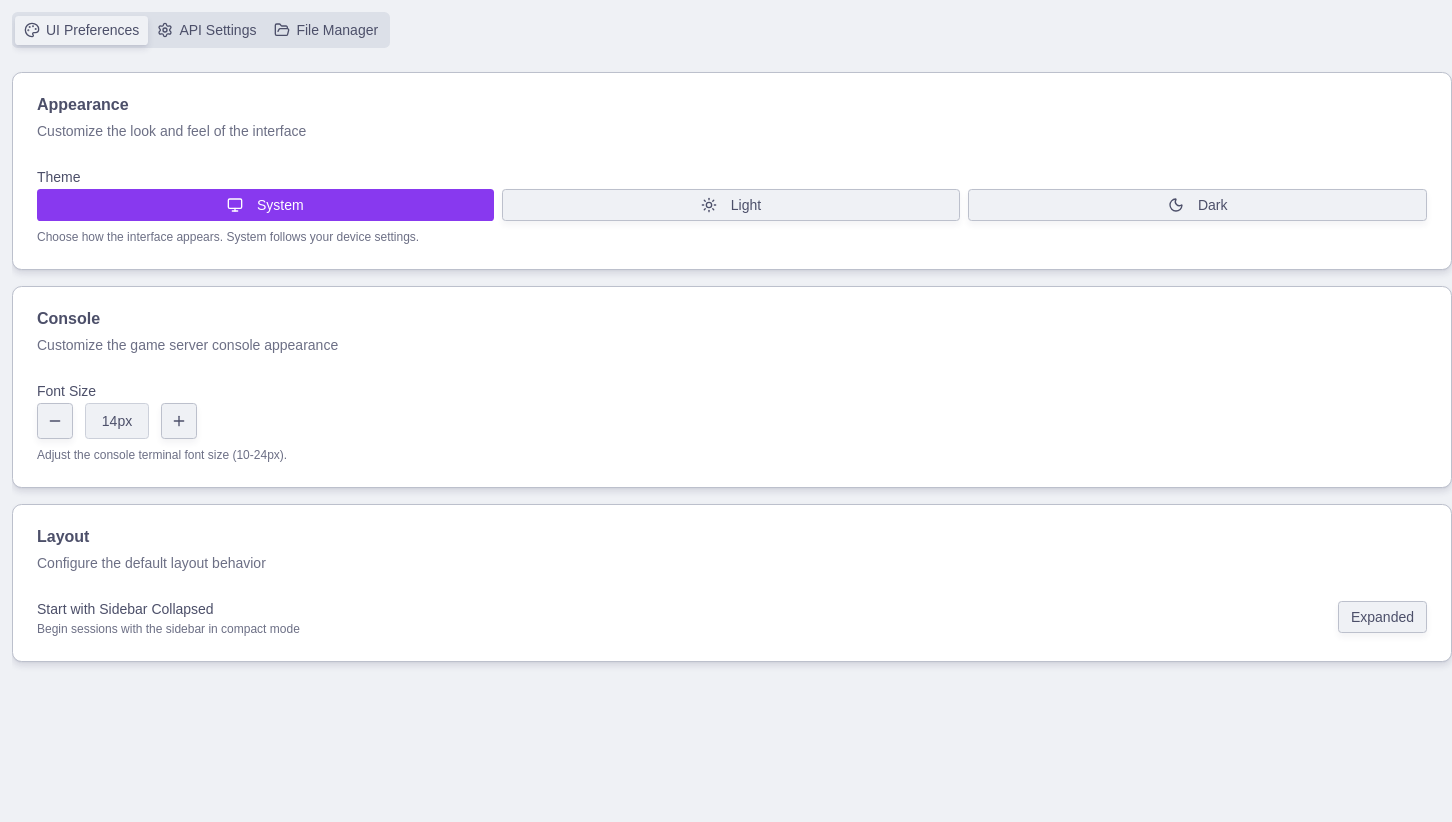
SettingsPage › File Manager tab content (Story 6.6) › shows FileManagerPanel when File Manager tab is active
Note: Switch to File Manager tab
Step 1. Click the tab with test id "file-manager-tab" → click(326, 30), box [265,16,387,44]
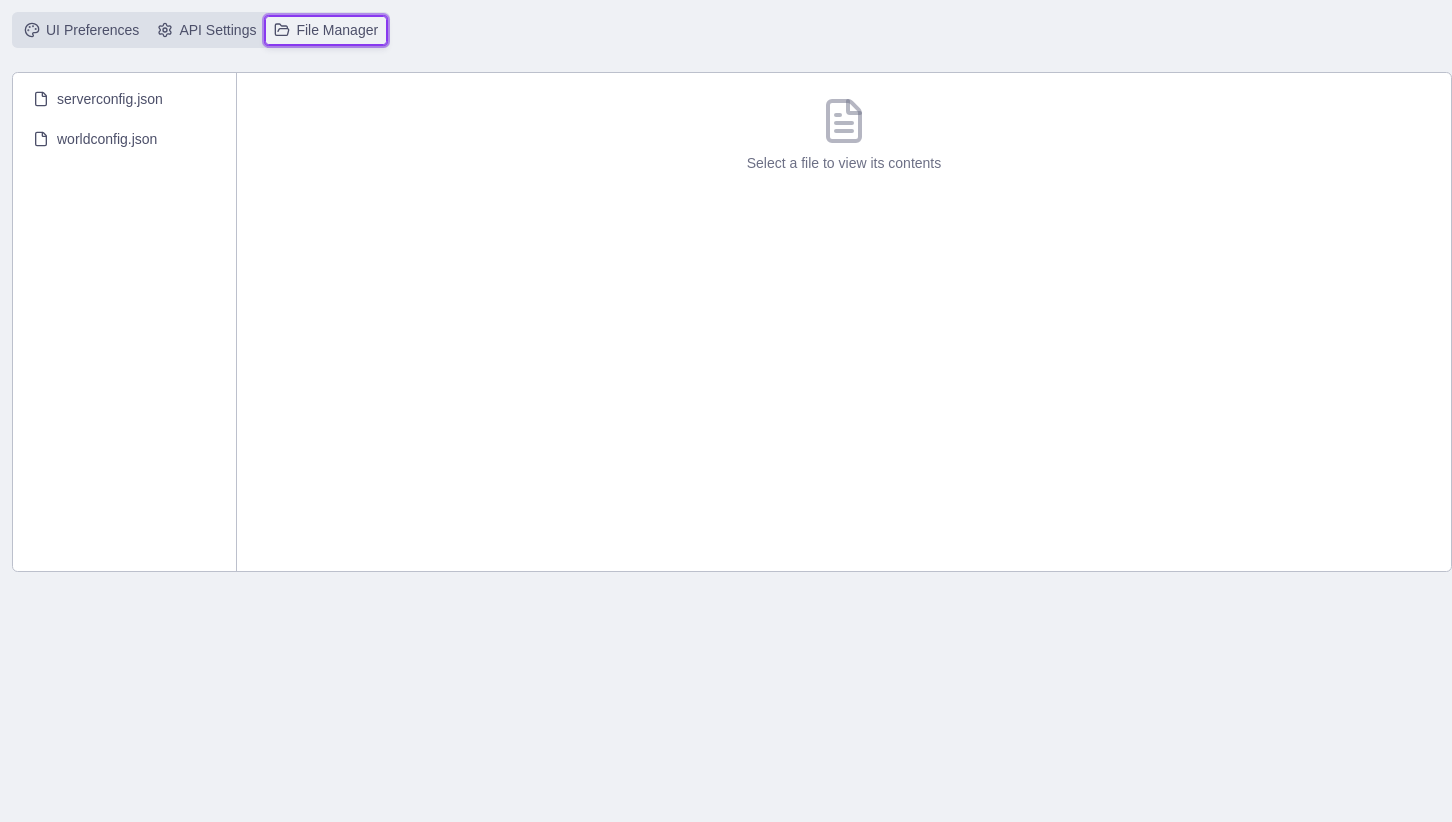
Check: the element with test id "file-manager-panel" is shown
